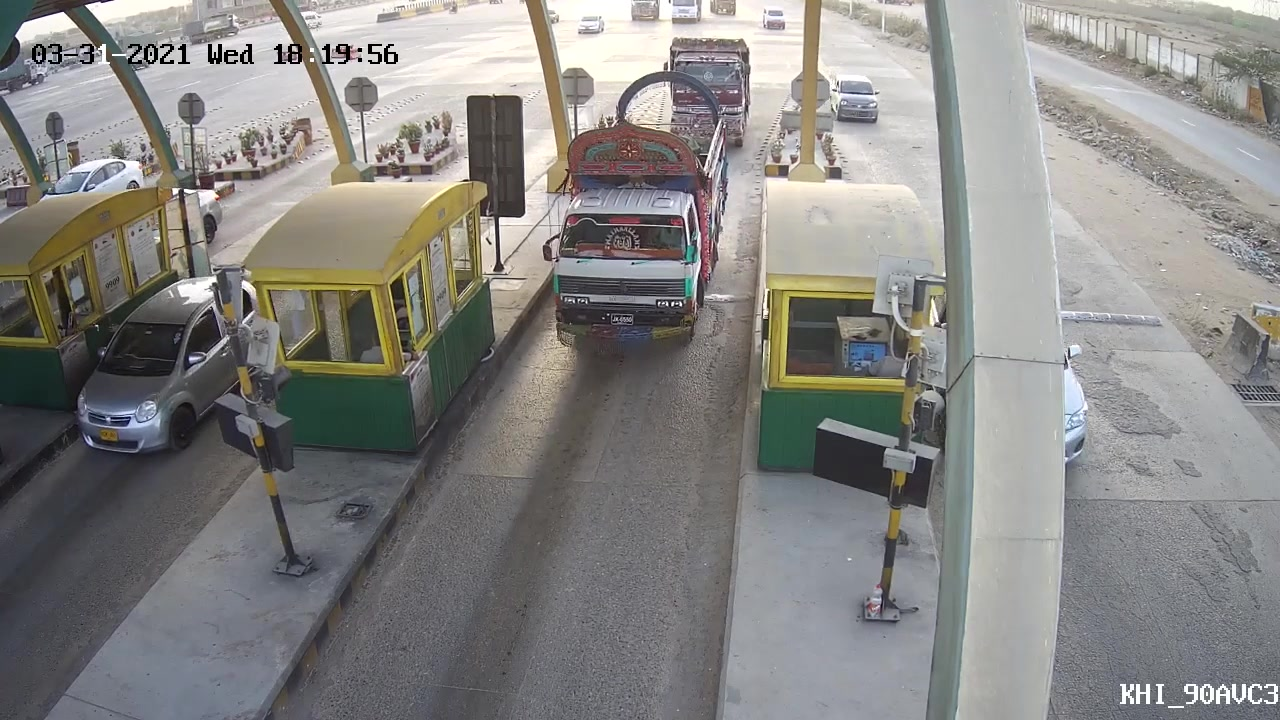F5: (548, 72, 737, 364)
